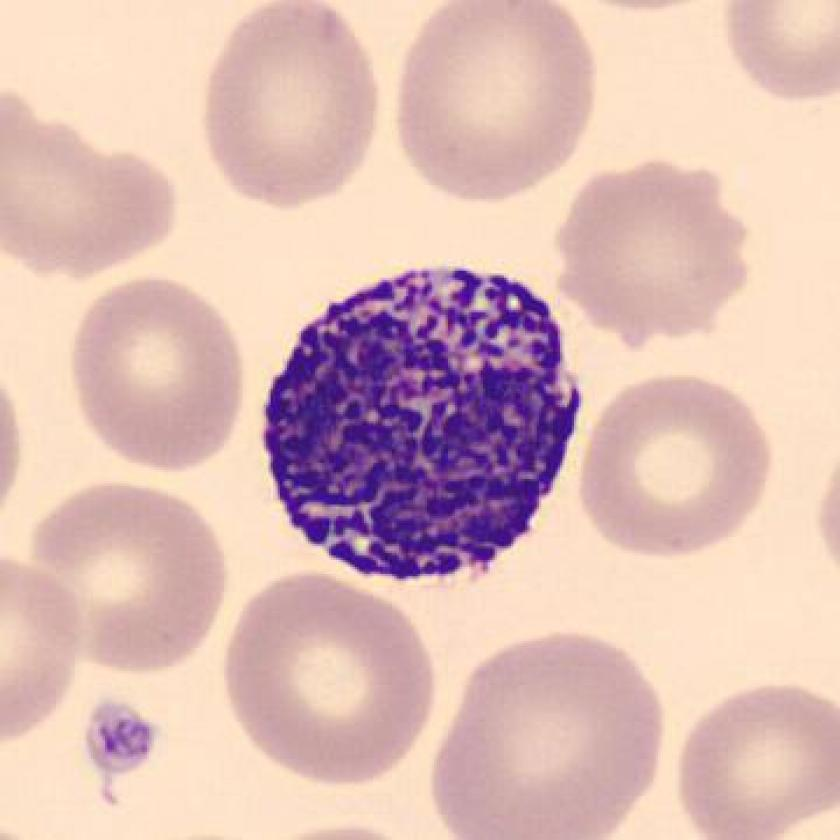basophil: (258, 258, 584, 596)
